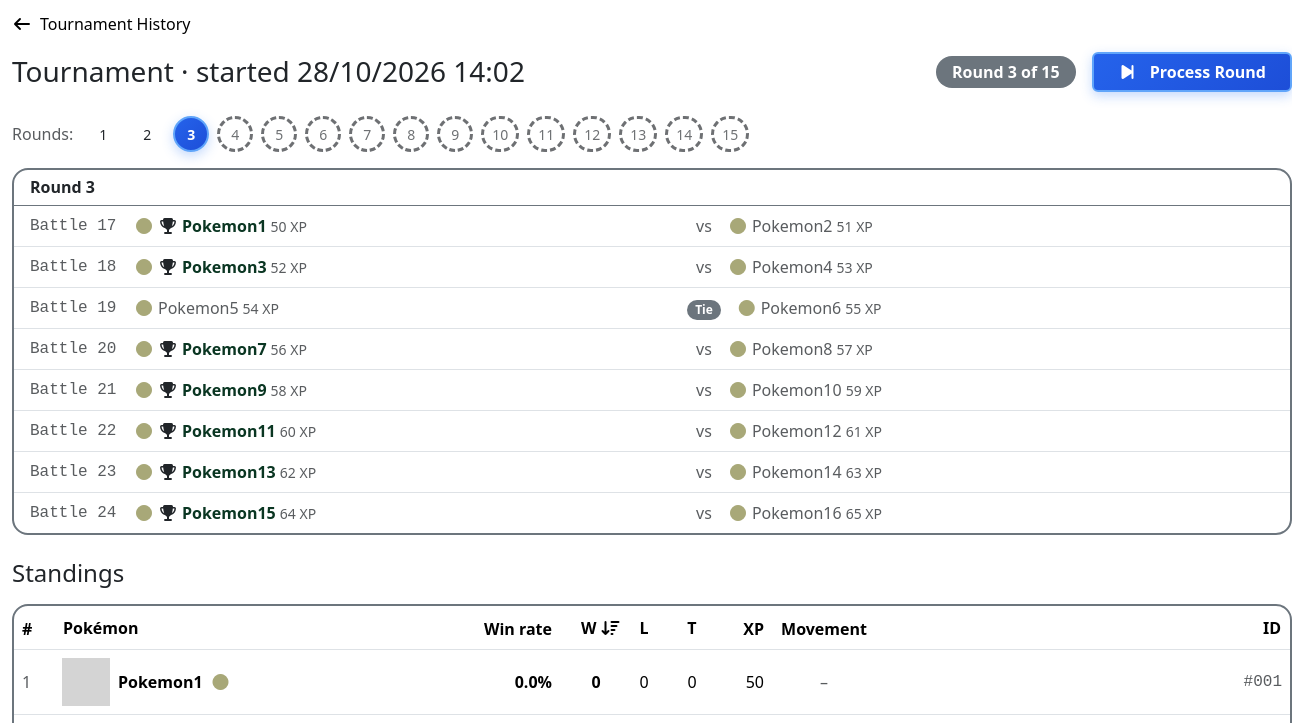
Test case: RoundByRoundTournamentComponent › should show a toast and keep the selected Round when a chip fails to load its Round
Click the button with class "round-chip" showing "1" at [103, 134], box [85,116,121,152]
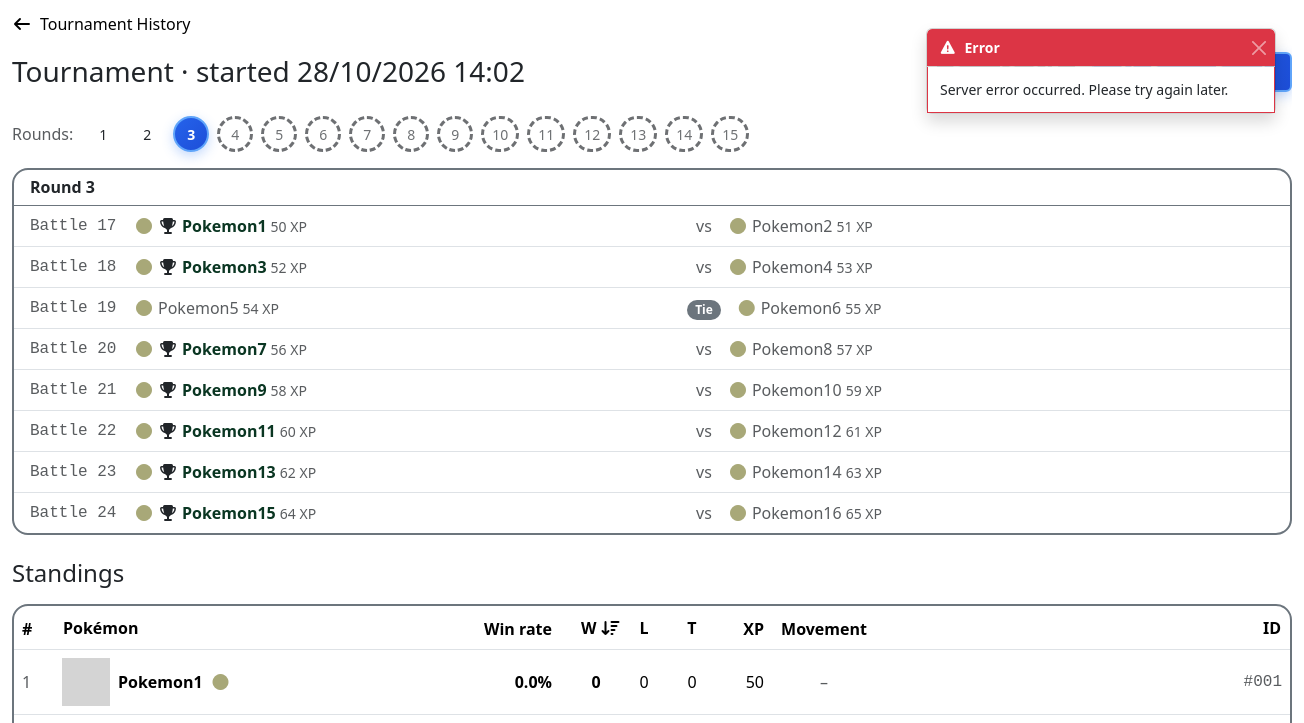
Expected: the button with class "battle-row" shows "Battle 17", [14,206,1290,247]
Expected: the text with class "toast-body" reads "Server error occurred. Please try again later.", [940,80,1228,99]
